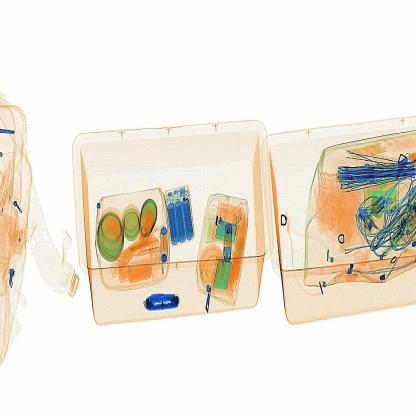scissors: (143, 292, 182, 314)
